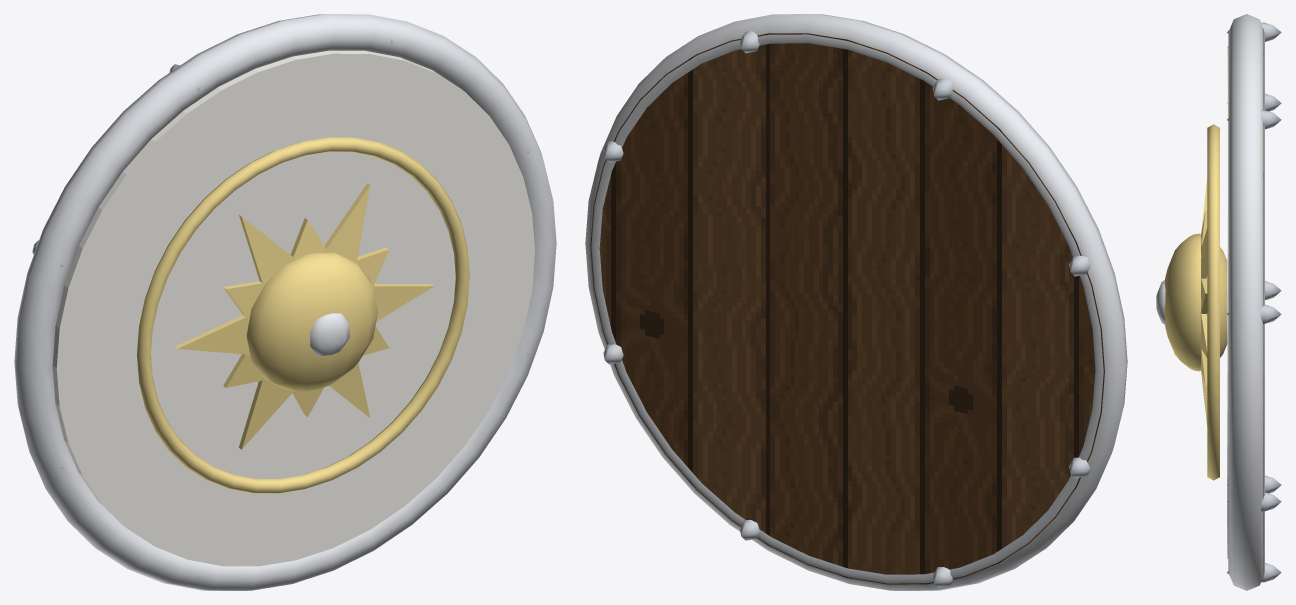
File: Shield_Paladin.gltf
3 views of the same model, side by side, from view 1: azimuth 30°, elevation 25°; view 2: azimuth 150°, elevation 25°; view 3: azimuth 270°, elevation 25° (orthographic). The views are drawn at different scales.
Visible parts, largest first — view 1: Shield_Paladin; view 2: Shield_Paladin; view 3: Shield_Paladin.
Boxes of the visible parts, x1,y1,x2,y2 form: Shield_Paladin: (14,14,556,590); Shield_Paladin: (585,14,1127,590); Shield_Paladin: (1156,14,1281,590).
Bounding box in the file's own units: 0.628 × 0.628 × 0.1364.
Materials: 7 (1 with a texture image).
